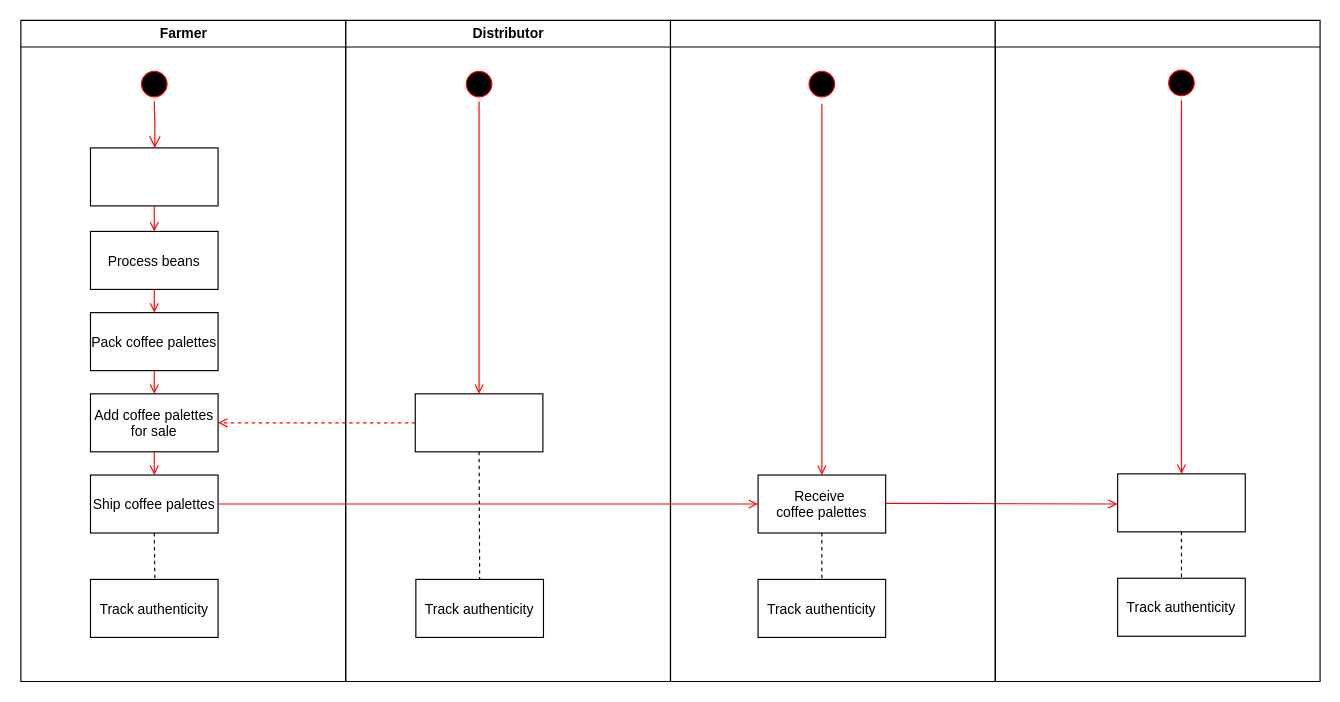
This 1340x702 diagram has some shape labels left out. The shapes that lost their labels are listed below. From the top down, each one's box as (x1, y1, x2, y2) in pixels, then its label:
(89, 147, 218, 206): Harvest beans
(669, 19, 995, 682): Retailer
(994, 19, 1320, 682): Consumer
(414, 393, 543, 452): Buy coffee palettes
(1116, 473, 1245, 532): Purchase coffee palettes
